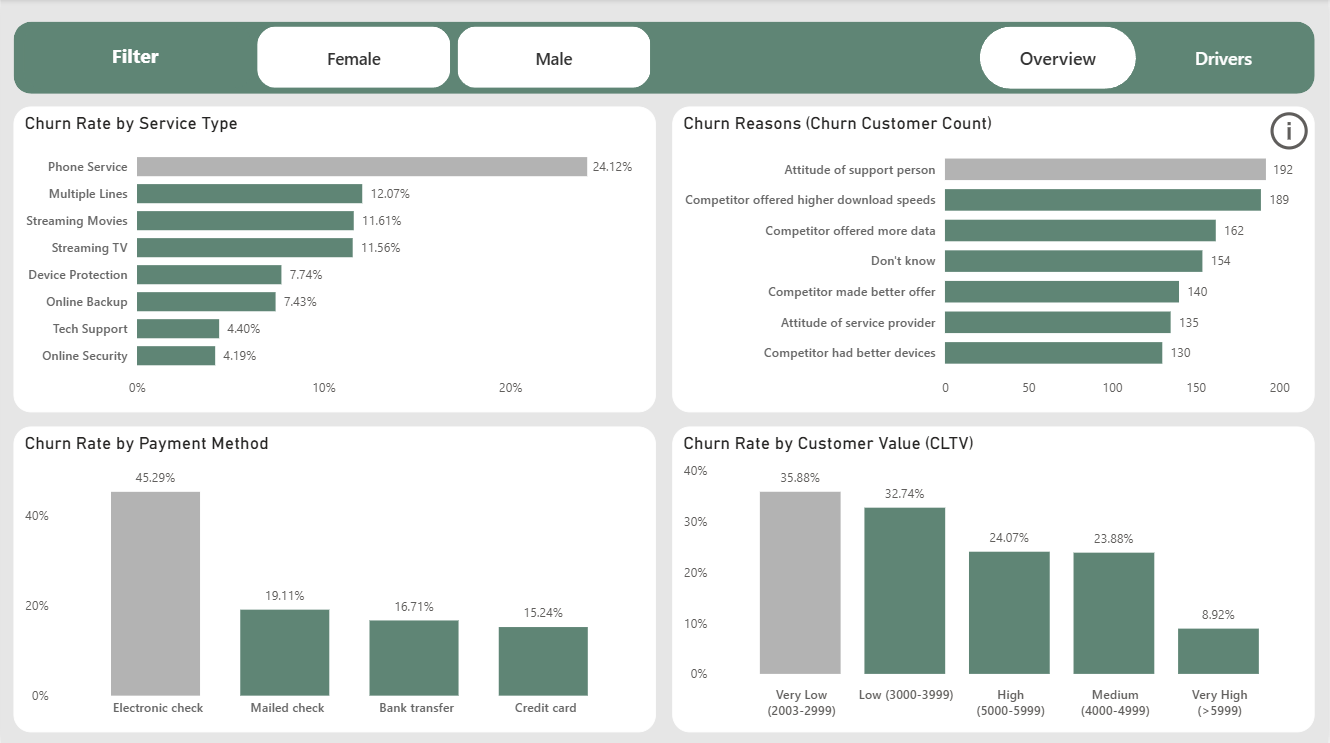

The dashboard page shown, as its layout file describes it:
{"tool":"powerbi","page":{"name":"Churn Drivers","canvas":[1280,720],"ordinal":1},"visuals":[{"type":"shape","box":[12.1,21.7,1255.9,70],"z":0},{"type":"actionButton","box":[944.6,26.5,150.8,60.3],"z":1000},{"type":"actionButton","box":[1105.1,26.5,149.6,60.3],"z":2000},{"type":"columnChart","title":"Churn Rate by Customer Value (CLTV)","fields":{"Category":["telco churn.CLTV_score_Bucket"],"Y":["Measure.Churn Rate"]},"box":[647.9,412.6,620.1,295.6],"z":3000},{"type":"barChart","title":"Churn Reasons (Churn Customer Count)","fields":{"Category":["telco churn.churn_reason"],"Y":["Measure.Churned Customers"]},"box":[647.9,103.8,620.1,295.6],"z":4000},{"type":"columnChart","title":"Churn Rate by Payment Method","fields":{"Category":["telco churn.payment_method"],"Y":["Measure.Churn Rate"]},"box":[12.1,412.6,620.1,295.6],"z":5000},{"type":"barChart","title":"Churn Rate by Service Type","fields":{"Category":["Churned Customers by Service.Service Type"],"Y":["Sum(Churned Customers by Service.Churn Rate)"]},"box":[12.1,103.8,620.1,295.6],"z":6000},{"type":"advancedSlicerVisual","fields":{"Values":["telco churn.gender"]},"box":[242.5,21.7,389.7,70],"z":7000},{"type":"textbox","box":[21.7,26.5,220.8,60.3],"z":8000},{"type":"actionButton","box":[1219.7,103.8,48.3,47.1],"z":11000}]}

Visuals, with their boxes in screenshot pixels (x1, y1, x2, y2), scaled from the page's 1280x720 canvas onto the 1330x743 screenshot:
shape: locate(13, 22, 1318, 95)
actionButton: locate(981, 27, 1138, 90)
actionButton: locate(1148, 27, 1304, 90)
"Churn Rate by Customer Value (CLTV)" columnChart: locate(673, 426, 1318, 731)
"Churn Reasons (Churn Customer Count)" barChart: locate(673, 107, 1318, 412)
"Churn Rate by Payment Method" columnChart: locate(13, 426, 657, 731)
"Churn Rate by Service Type" barChart: locate(13, 107, 657, 412)
advancedSlicerVisual - telco churn.gender: locate(252, 22, 657, 95)
textbox: locate(23, 27, 252, 90)
actionButton: locate(1267, 107, 1318, 156)
